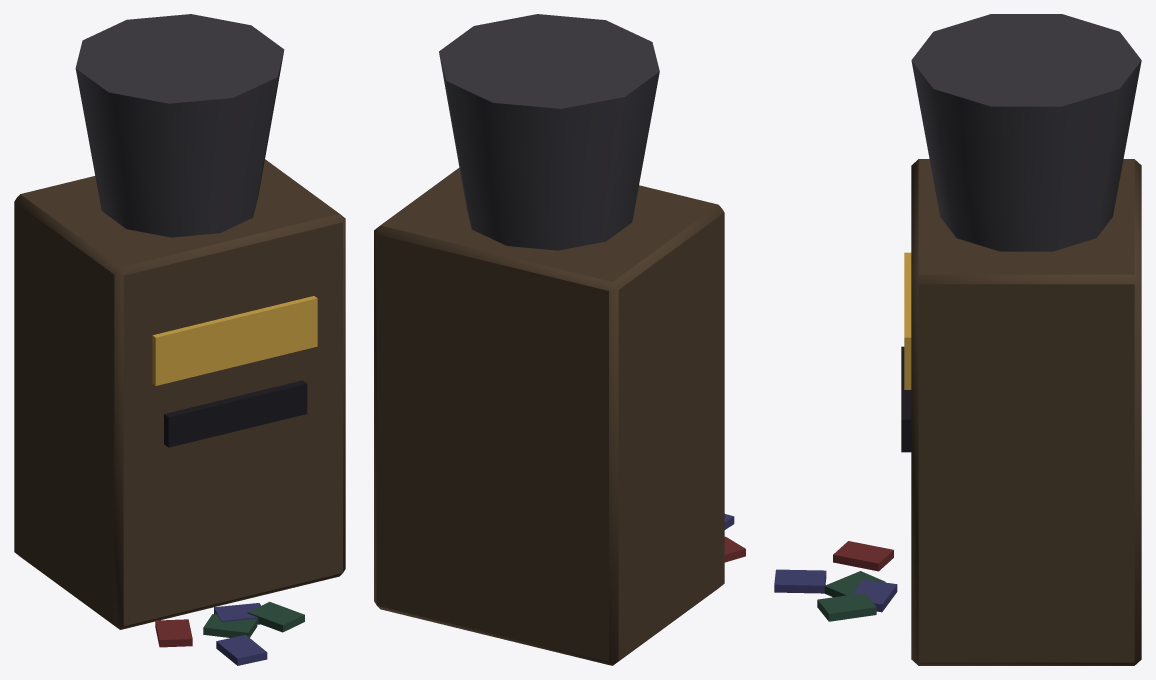
The model's file is returns_chute.glb.
3 views of the same model, side by side, from view 1: azimuth 30°, elevation 25°; view 2: azimuth 150°, elevation 25°; view 3: azimuth 270°, elevation 25° (orthographic). The views are drawn at different scales.
Visible parts, largest first — view 1: returns_chute; view 2: returns_chute; view 3: returns_chute.
Boxes of the visible parts, <box> form: returns_chute: <box>14,14,345,665</box>; returns_chute: <box>374,14,745,665</box>; returns_chute: <box>774,14,1141,665</box>.
Size of the model in its own units: 2 by 4.2 by 2.55.
